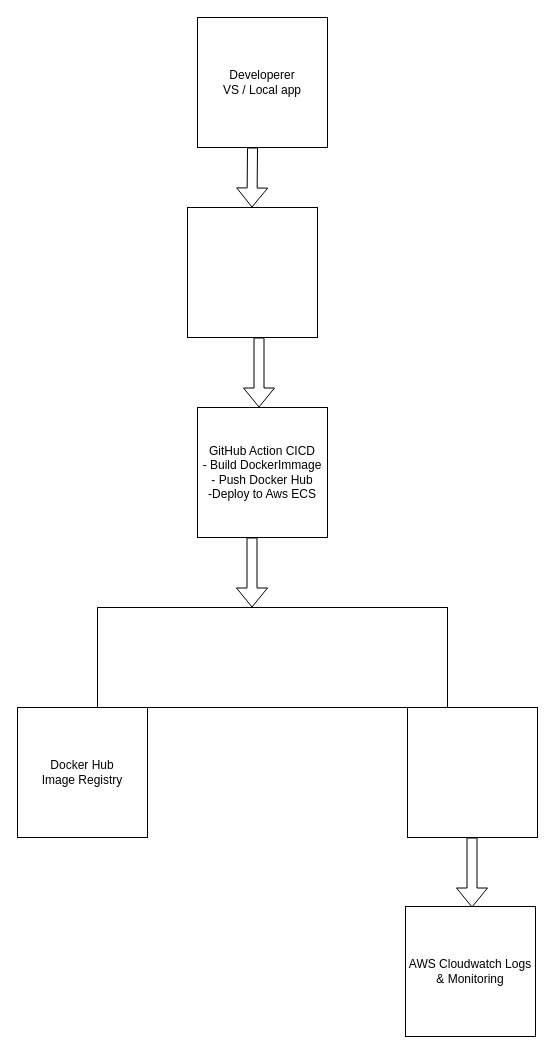
This 555x1054 diagram has some shape labels left out. The box of each missing label's shape, as (x1, y1, x2, y2) in pixels:
AWS ECS (Fargate) Runs Container App: (406, 706, 538, 838)
GitHub Repo (Source Control + Actions): (186, 206, 318, 338)
